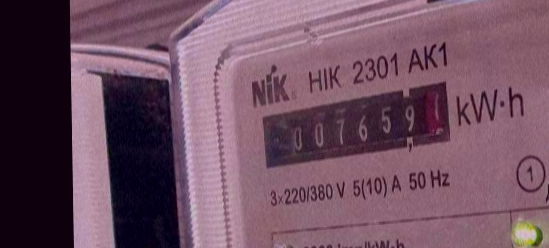0: (292, 121, 305, 149), (313, 118, 326, 146)
1: (431, 89, 443, 121)
5: (379, 102, 394, 135)
6: (357, 110, 370, 141)
7: (334, 112, 348, 144)
9: (403, 99, 418, 133)
screen: (248, 73, 471, 172)
